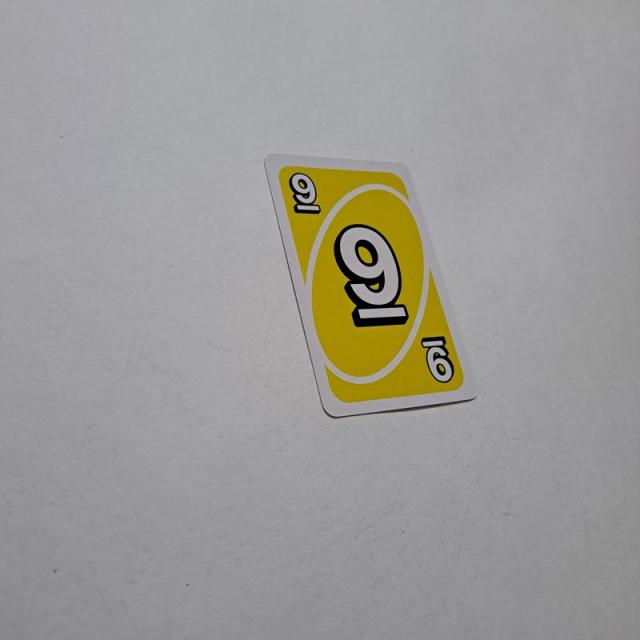Number_9: (288, 168, 324, 219)
Yellow_Card: (275, 162, 469, 406)
